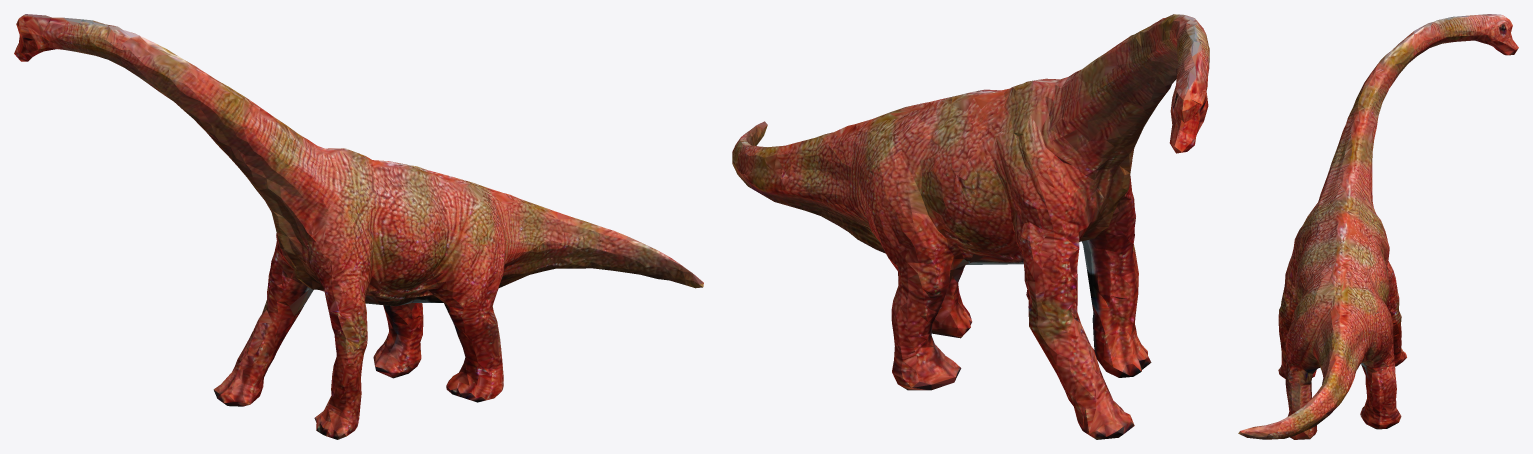
File: red_dino.obj
The picture shows the model from 3 angles, left to right: view 1: azimuth 30°, elevation 25°; view 2: azimuth 150°, elevation 25°; view 3: azimuth 270°, elevation 25°; orthographic projection. The views are drawn at different scales.
Parts seen in each view (by area): view 1: Polygonal_Model_1_Dinosaur_texture; view 2: Polygonal_Model_1_Dinosaur_texture; view 3: Polygonal_Model_1_Dinosaur_texture.
Boxes of the visible parts, box(x1,y1,x2,y2) form: Polygonal_Model_1_Dinosaur_texture: box(14, 14, 703, 439); Polygonal_Model_1_Dinosaur_texture: box(732, 14, 1209, 439); Polygonal_Model_1_Dinosaur_texture: box(1238, 14, 1518, 439).
Size of the model in its own units: 221 by 155 by 129.
